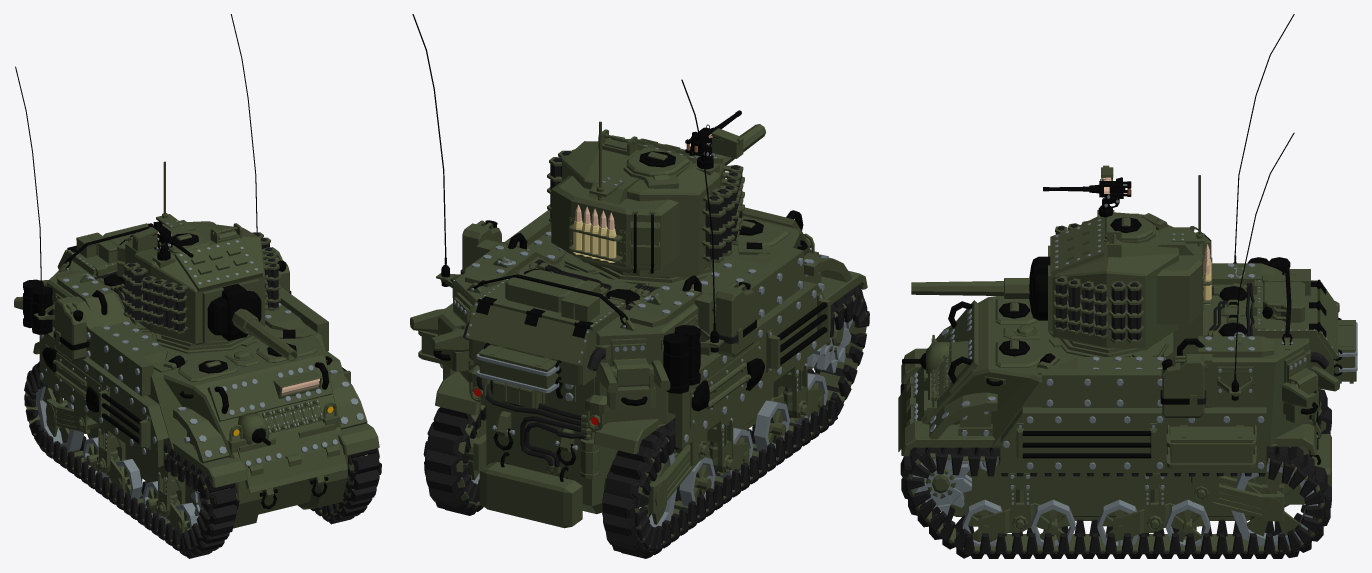
The model's file is Stuart.fbx.
3 renders of one model, left to right at view 1: azimuth 30°, elevation 25°; view 2: azimuth 150°, elevation 25°; view 3: azimuth 270°, elevation 25°, orthographic. The views are drawn at different scales.
Parts seen in each view (by area): view 1: Cube.043; view 2: Cube.043; view 3: Cube.043.
Part boxes in pixels (x1,y1,x2,y2): Cube.043: (14,14,381,558); Cube.043: (410,14,869,558); Cube.043: (898,14,1357,558).
Bounding box in the file's own units: 266 × 423 × 400.
